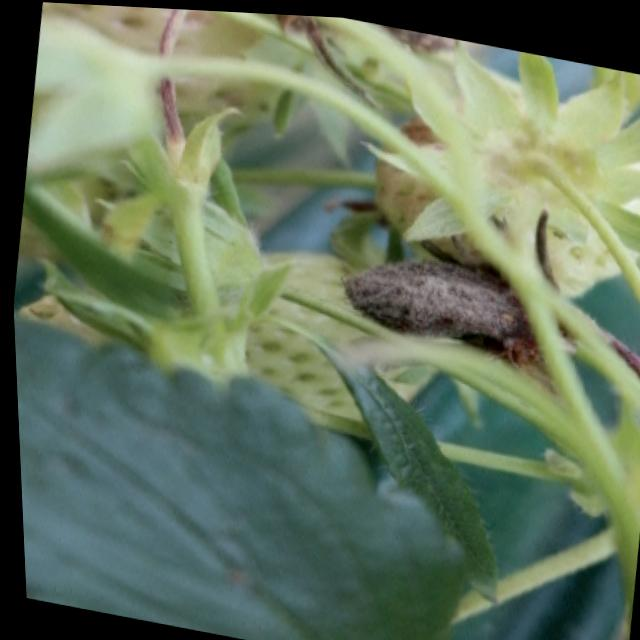Gray Mold: (338, 232, 577, 372), (275, 11, 461, 102)
